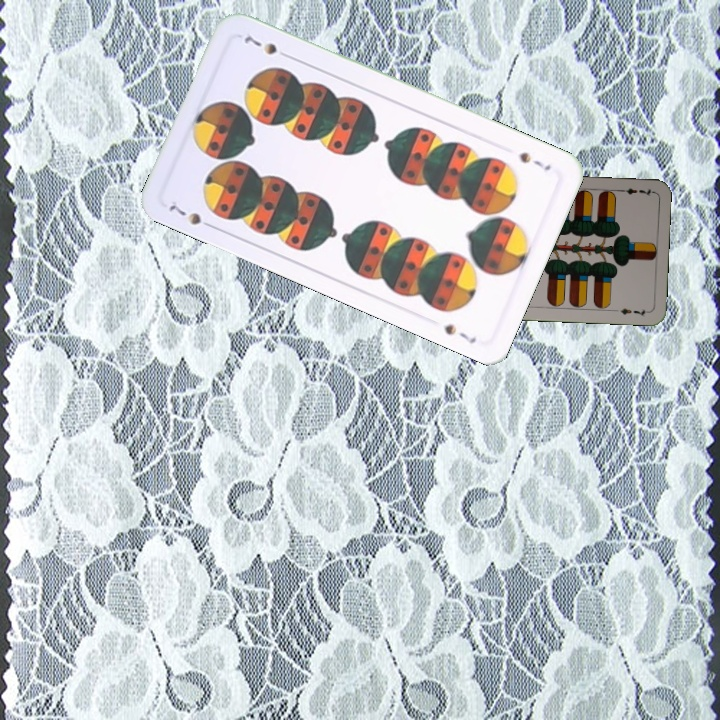E7: (614, 184, 655, 199)
S7: (165, 200, 204, 228), (515, 148, 554, 173)
